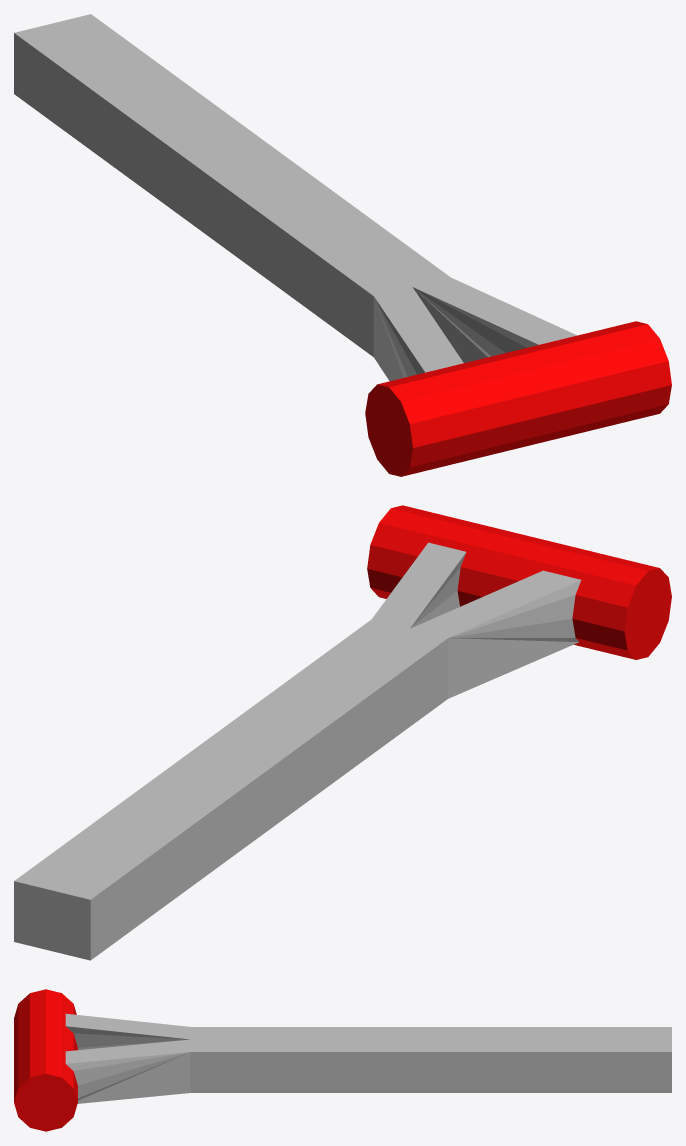
File: griff1.obj
3 renders of one model, top to bottom at view 1: azimuth 30°, elevation 25°; view 2: azimuth 150°, elevation 25°; view 3: azimuth 270°, elevation 25°, orthographic. The views are drawn at different scales.
Visible parts, largest first — view 1: griff1; view 2: griff1; view 3: griff1.
Part boxes in pixels (x1=…): griff1: x1=14, y1=14, x2=671, y2=476; griff1: x1=14, y1=505, x2=671, y2=960; griff1: x1=14, y1=989, x2=671, y2=1131.
Size of the model in its own units: 0.2493 by 0.0797 by 0.8205.
